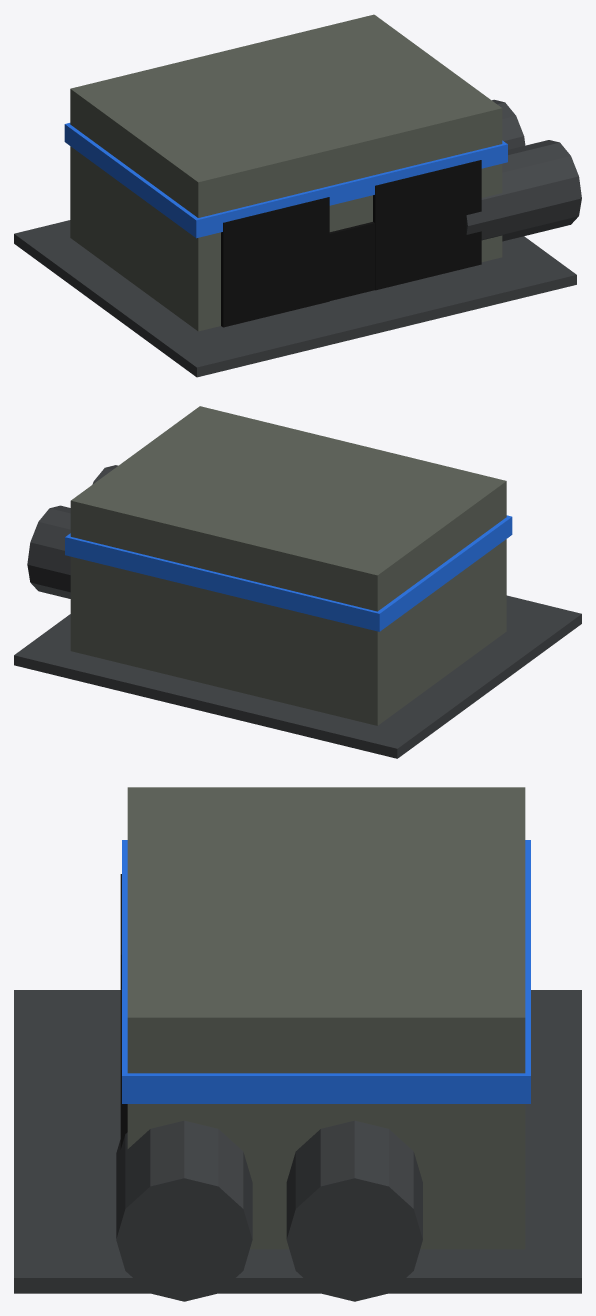
The model's file is eu_logistics_hub.glb.
3 views of the same model, one above another, from view 1: azimuth 30°, elevation 25°; view 2: azimuth 150°, elevation 25°; view 3: azimuth 270°, elevation 25° (orthographic). The views are drawn at different scales.
Visible parts, largest first — view 1: main, base, garage_0, garage_1, fuel_tank_0, team_band, door, fuel_tank_1; view 2: main, base, team_band, fuel_tank_1; view 3: main, base, fuel_tank_0, fuel_tank_1, team_band.
Part boxes in pixels (x1,y1,x2,y2): main: [70, 14, 502, 331]; base: [14, 220, 576, 377]; garage_0: [221, 197, 329, 327]; garage_1: [373, 160, 481, 290]; fuel_tank_0: [466, 140, 581, 241]; team_band: [64, 123, 507, 238]; door: [329, 222, 374, 300]; fuel_tank_1: [492, 99, 525, 149]; main: [70, 406, 506, 725]; base: [14, 595, 581, 758]; team_band: [65, 515, 512, 631]; fuel_tank_1: [27, 505, 70, 598]; main: [127, 787, 525, 1249]; base: [14, 990, 581, 1293]; fuel_tank_0: [116, 1120, 252, 1301]; fuel_tank_1: [286, 1120, 422, 1301]; team_band: [122, 840, 530, 1103].
Bounding box in the file's own units: 13.2 × 4.8 × 10.
